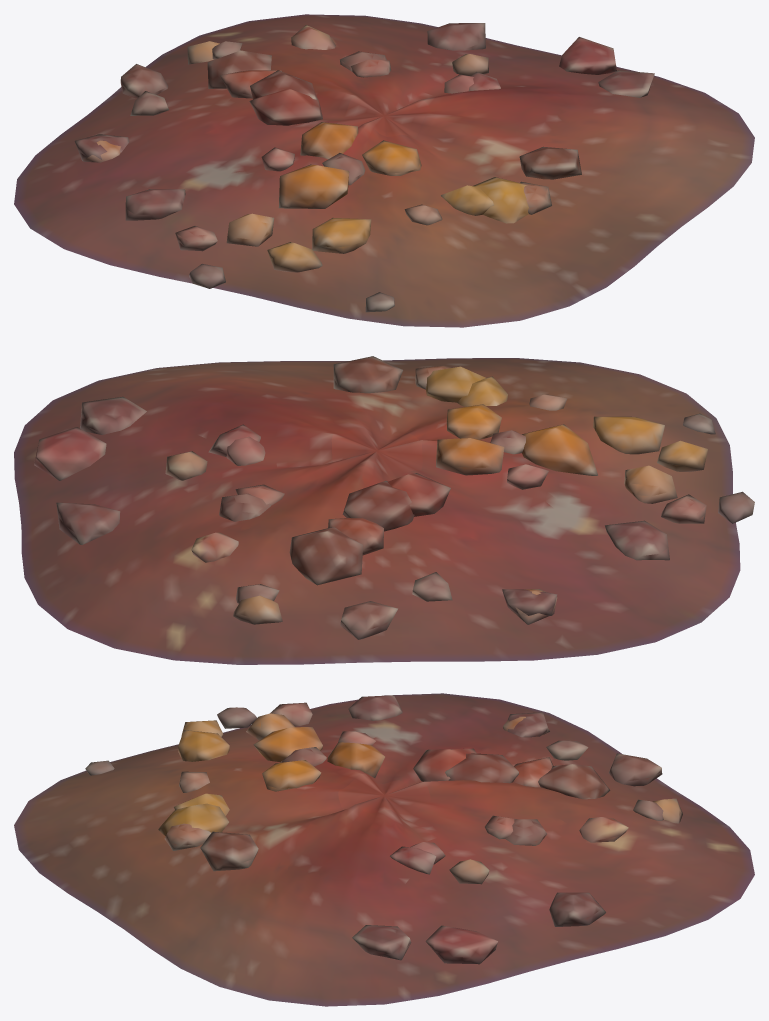
Rendered from yosun_tumsek.glb.
3 views of the same model, one above another, from view 1: azimuth 30°, elevation 25°; view 2: azimuth 150°, elevation 25°; view 3: azimuth 270°, elevation 25° (orthographic). The views are drawn at different scales.
Parts seen in each view (by area): view 1: yosun_tumsek_LOD0; view 2: yosun_tumsek_LOD0; view 3: yosun_tumsek_LOD0.
Boxes of the visible parts, x1=… form: yosun_tumsek_LOD0: x1=14, y1=14, x2=754, y2=327; yosun_tumsek_LOD0: x1=14, y1=356, x2=754, y2=664; yosun_tumsek_LOD0: x1=14, y1=693, x2=754, y2=1006.
Size of what is drawn, in the model's own units: 8.51 by 0.9216 by 8.51.
